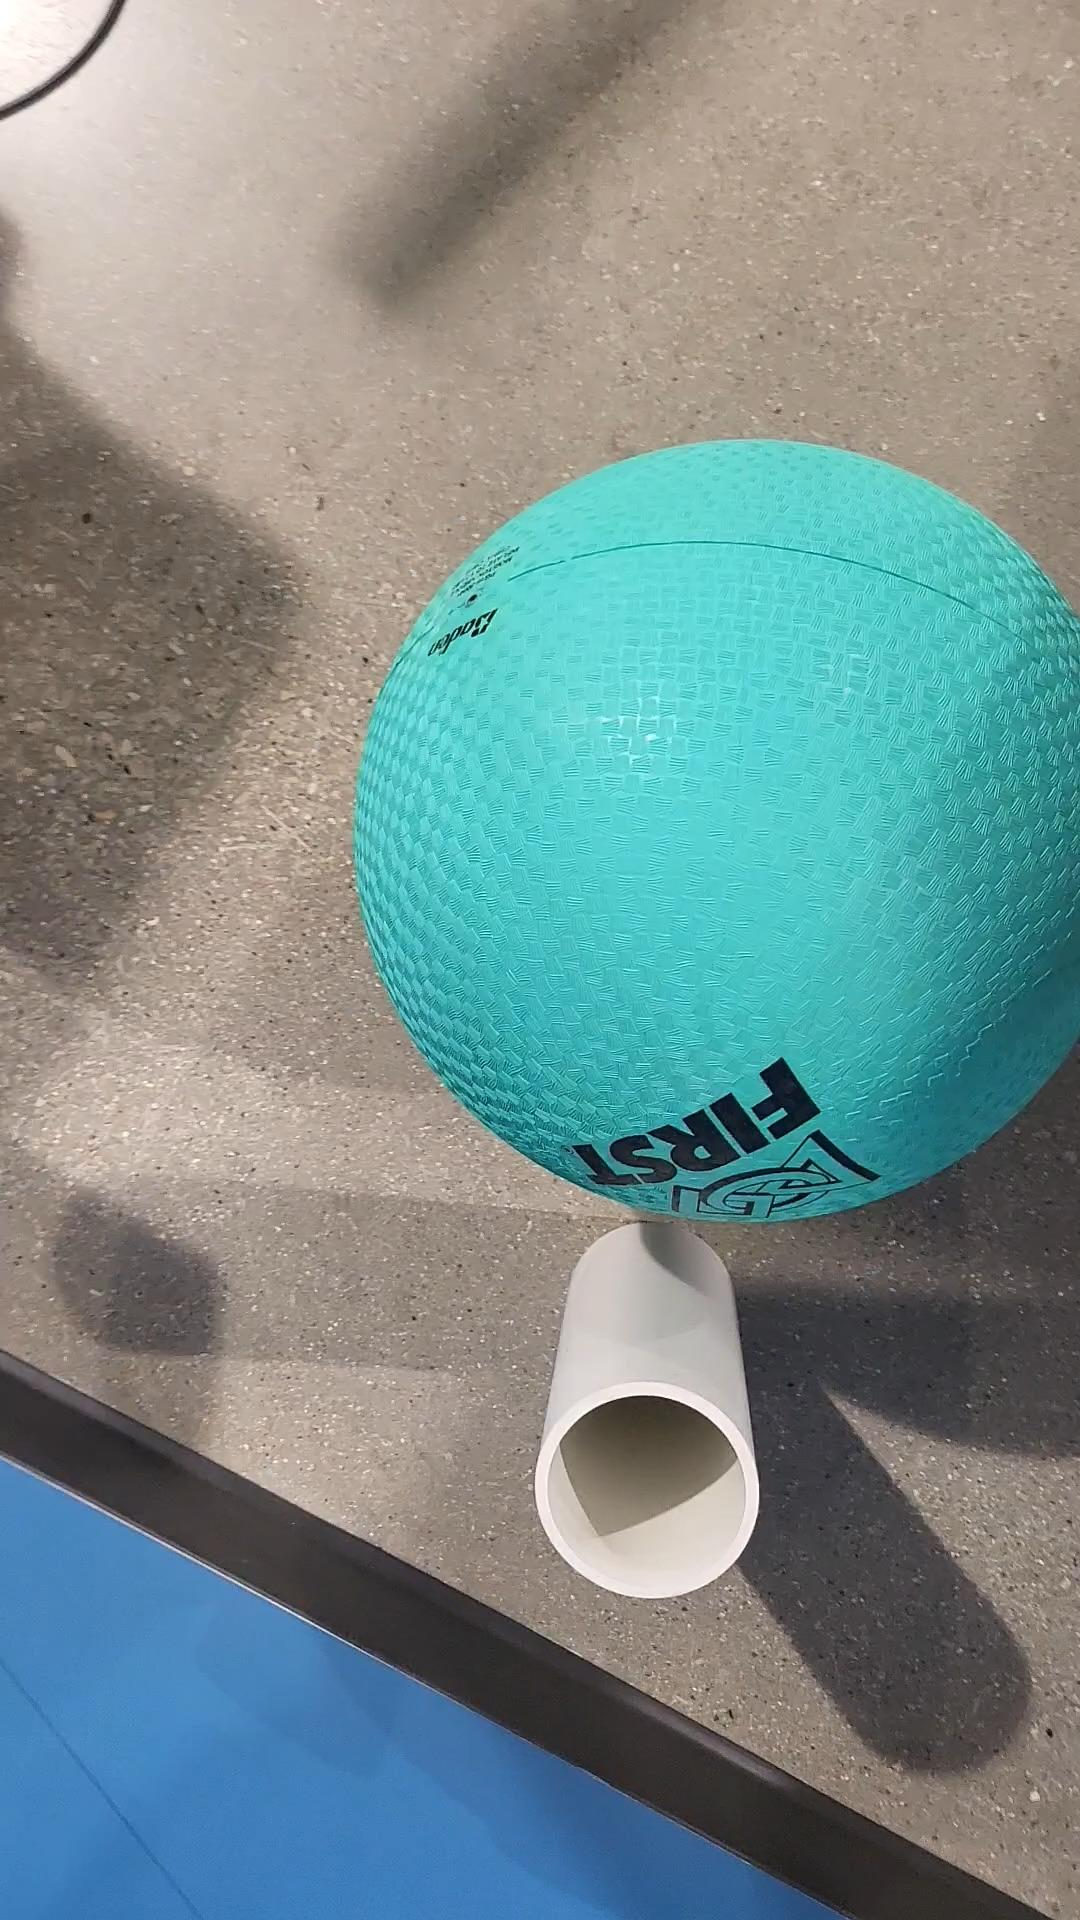algae: (360, 419, 1080, 1224)
coral: (533, 1215, 766, 1610)
